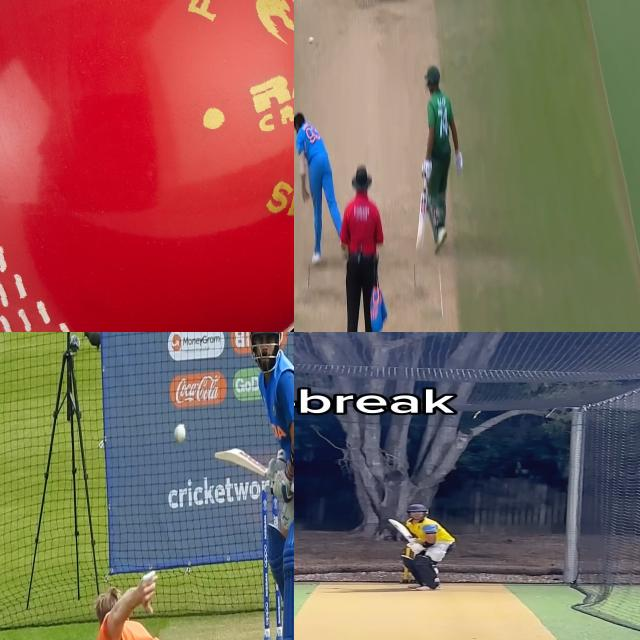Cricket ball: (0, 0, 294, 332), (173, 419, 189, 449), (308, 34, 314, 44)
